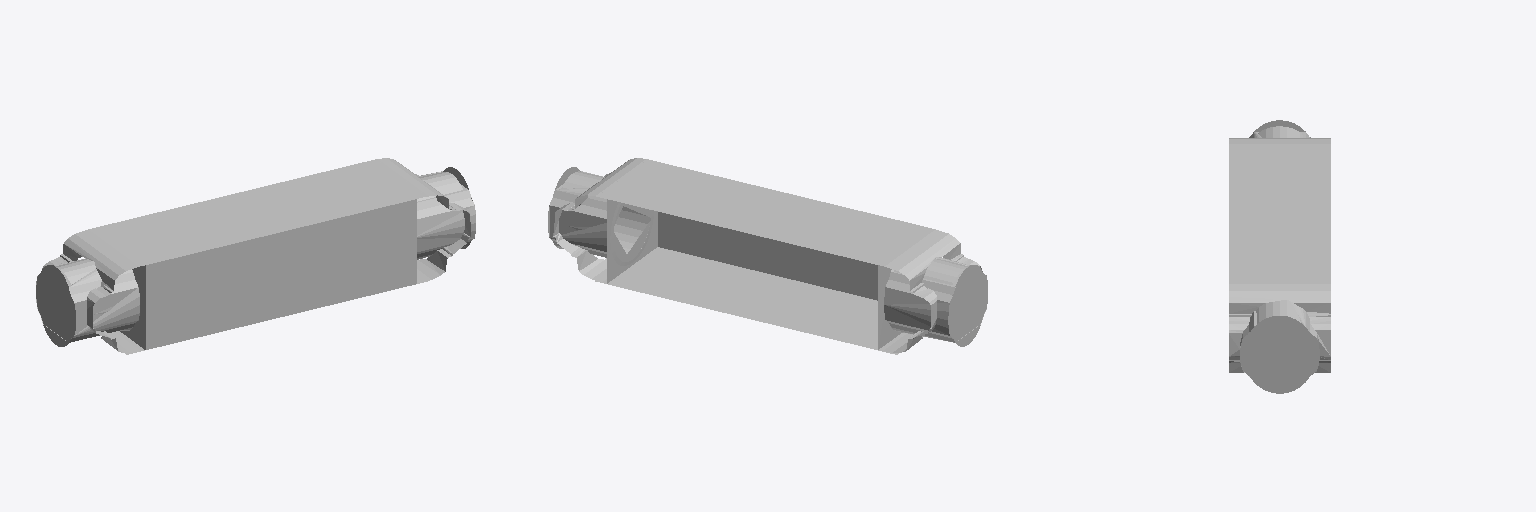
File: testWithoutDoubles.obj
The picture shows the model from 3 angles: view 1: azimuth 30°, elevation 25°; view 2: azimuth 150°, elevation 25°; view 3: azimuth 270°, elevation 25°; orthographic projection.
Parts seen in each view (by area): view 1: CapsuleHousing_HousingAndInnderWalls_1; view 2: CapsuleHousing_HousingAndInnderWalls_1; view 3: CapsuleHousing_HousingAndInnderWalls_1.
Part boxes in pixels (x1,y1,x2,y2): CapsuleHousing_HousingAndInnderWalls_1: (36, 158, 475, 354); CapsuleHousing_HousingAndInnderWalls_1: (548, 158, 987, 354); CapsuleHousing_HousingAndInnderWalls_1: (1229, 120, 1330, 393).
Size of the model in its own units: 42.22 by 8.58 by 9.36.